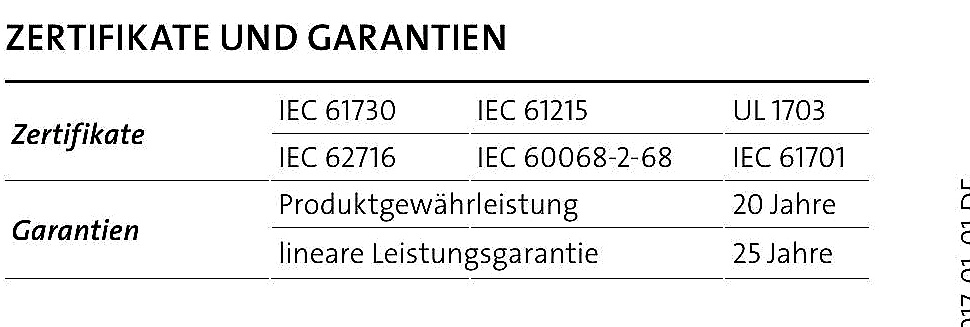table: (1, 75, 892, 288)
table column: (5, 79, 273, 277), (474, 83, 720, 281), (276, 81, 473, 279), (724, 82, 877, 279)
table name: (1, 16, 525, 59)
table row: (4, 231, 880, 279), (3, 86, 875, 133), (3, 183, 880, 229), (3, 133, 876, 179)
table row header: (6, 82, 275, 276)
table spanning cell: (5, 83, 274, 179), (4, 182, 274, 275), (275, 229, 726, 277), (276, 179, 723, 227)
